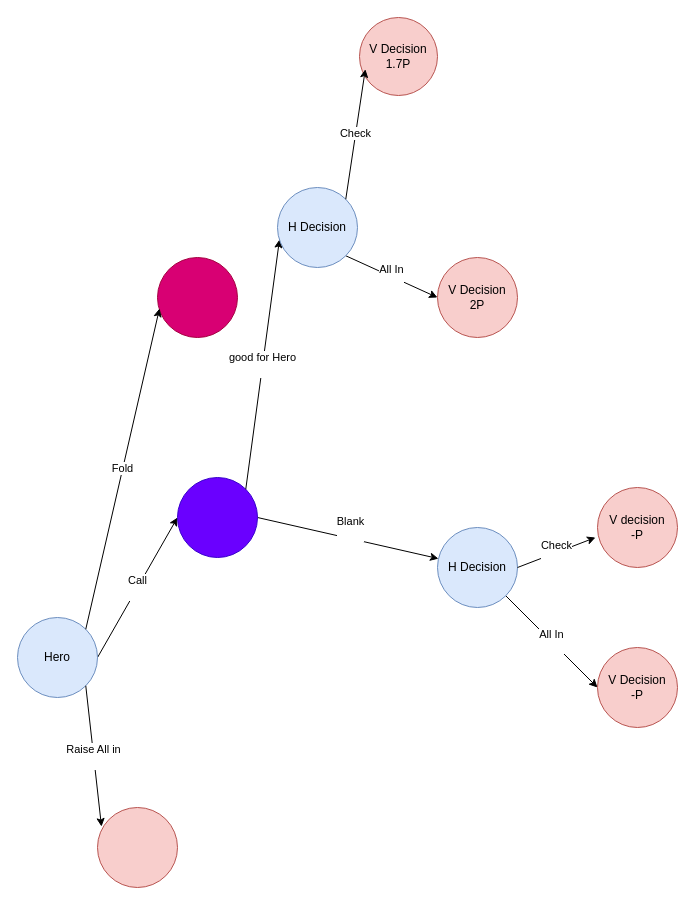
Image size: 695x905. Some labels were removed from this diagram. Here are the shapes that lost their labels. From the top down, the centre of each, then its label:
At point 197,297: "X=0".
At point 217,517: "River Card".
At point 137,847: "Villian -.14P".
